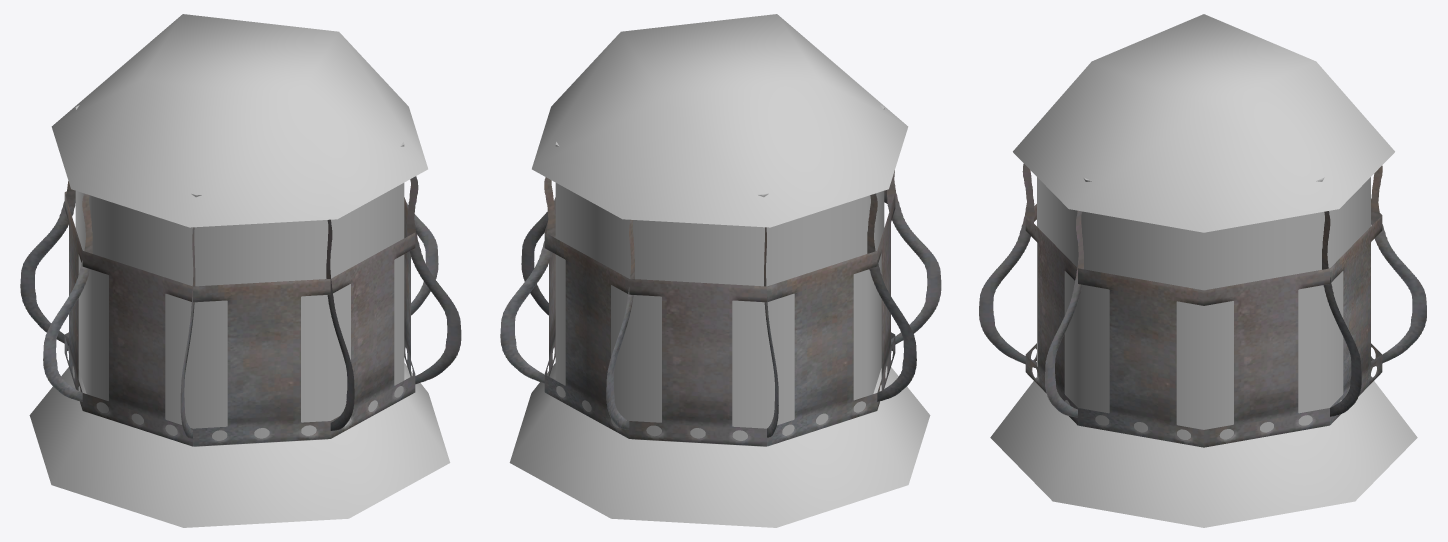
File: frn_all_glow_lantern_l1.fbx
3 renders of one model, left to right at view 1: azimuth 30°, elevation 25°; view 2: azimuth 150°, elevation 25°; view 3: azimuth 270°, elevation 25°, orthographic.
Parts seen in each view (by area): view 1: mesh_node; view 2: mesh_node; view 3: mesh_node.
Boxes of the visible parts, <box> form: mesh_node: <box>20,14,461,527</box>; mesh_node: <box>500,14,941,527</box>; mesh_node: <box>979,14,1426,527</box>.
Size of the model in its own units: 0.2712 by 0.2452 by 0.2712.
